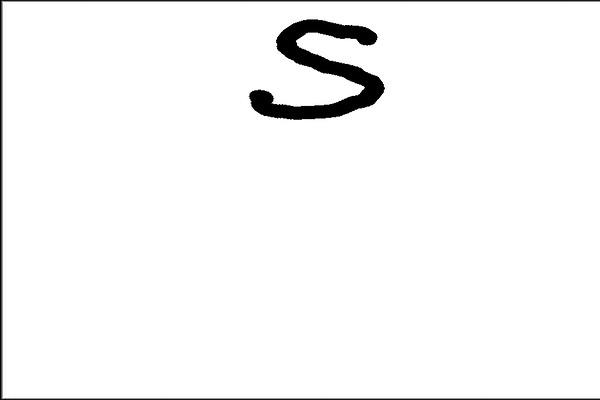S: (241, 14, 393, 125)
